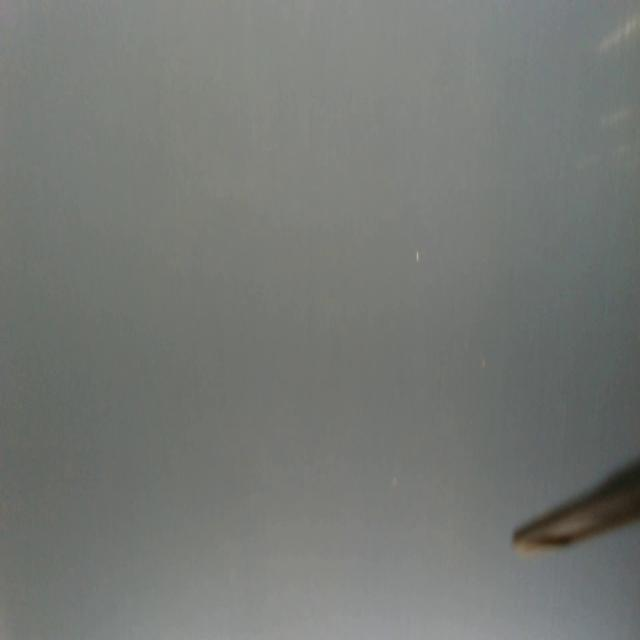hole: (480, 357, 489, 372), (392, 470, 398, 490), (416, 249, 420, 263)
